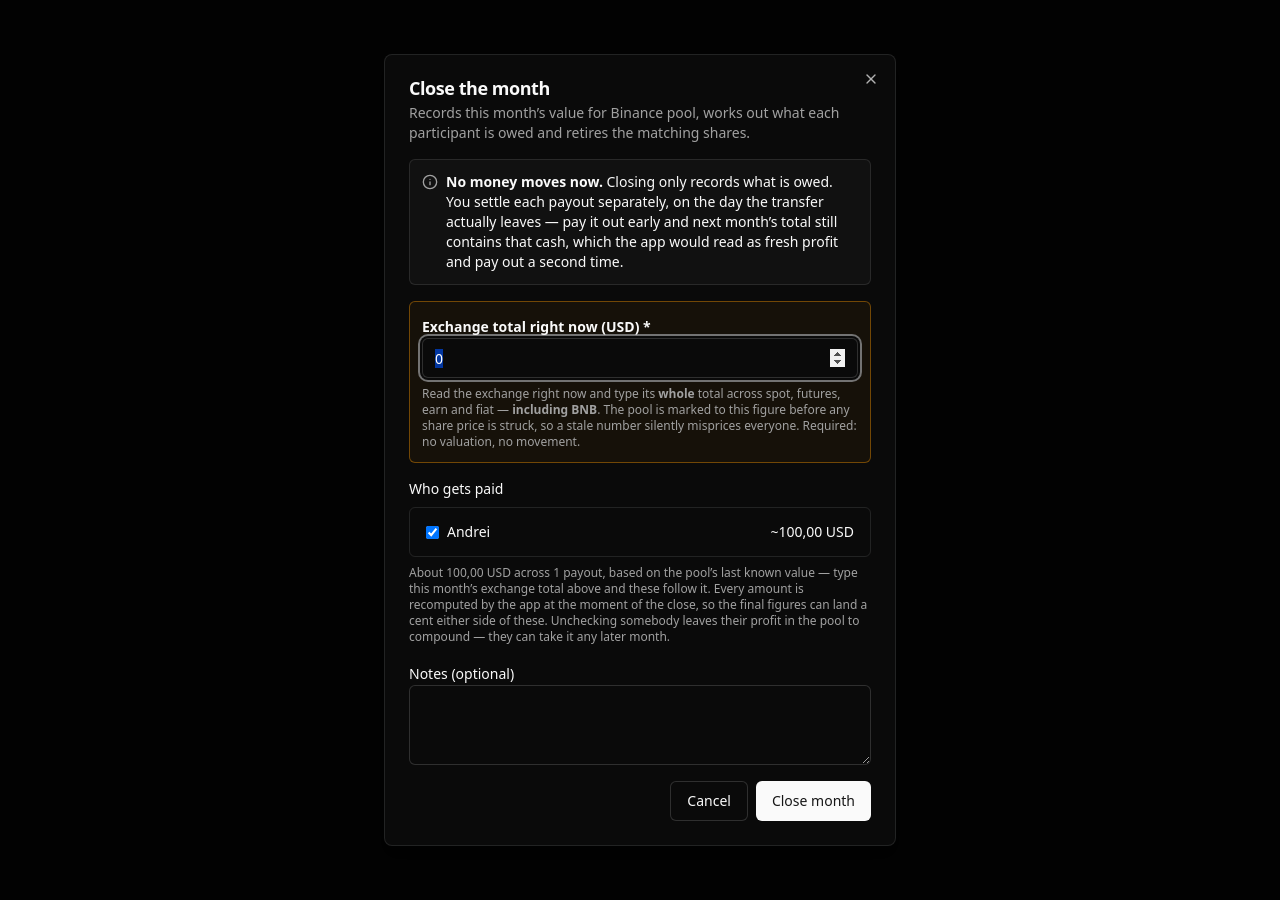
Scenario: a guard rejection lands inline, next to the form › close month
Replace the text in the number field with test id "close-pool-value-input" with "2600": (640, 358) left=422, top=338, right=858, bottom=378
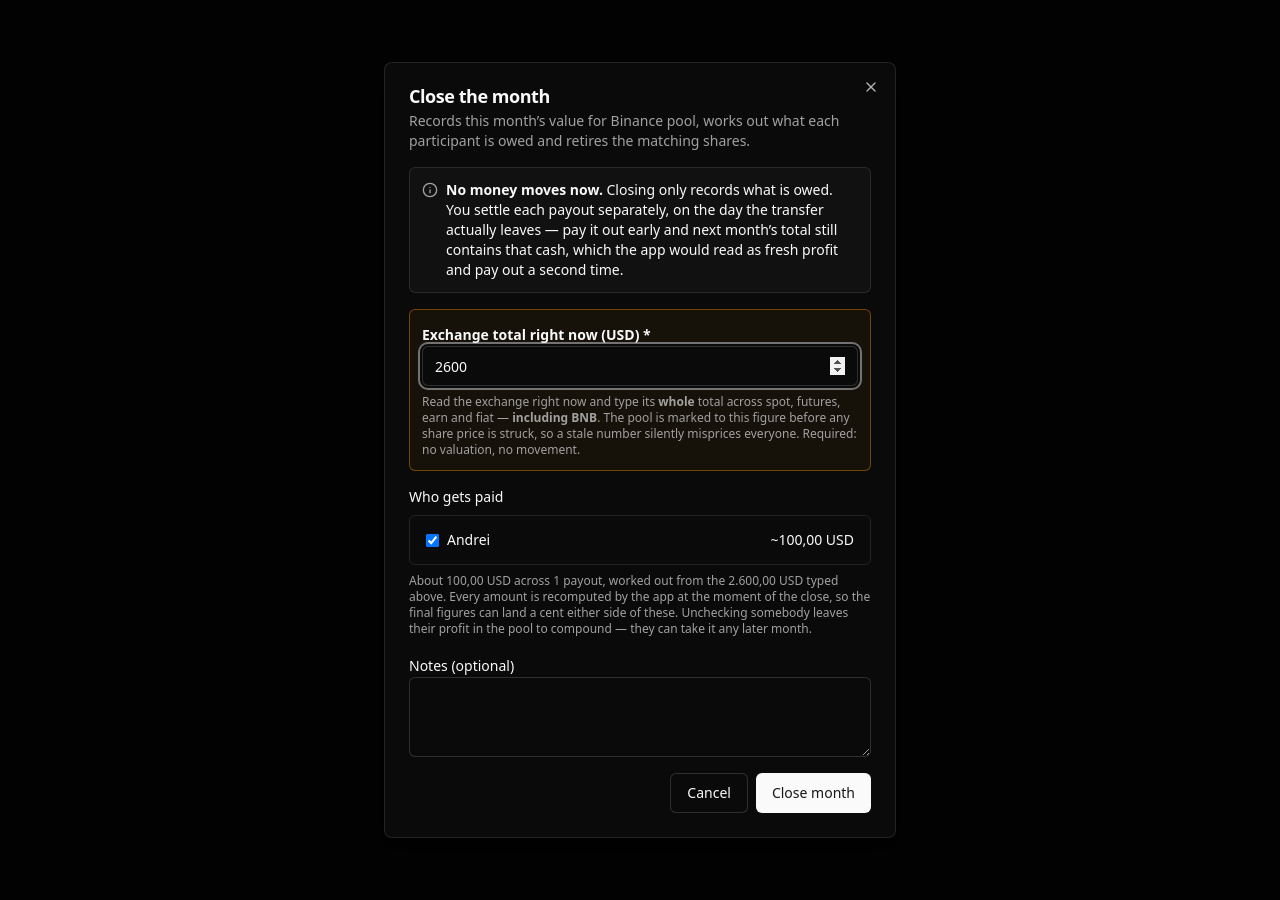
Click the button with test id "close-month-submit-button": (813, 793) left=756, top=773, right=871, bottom=813
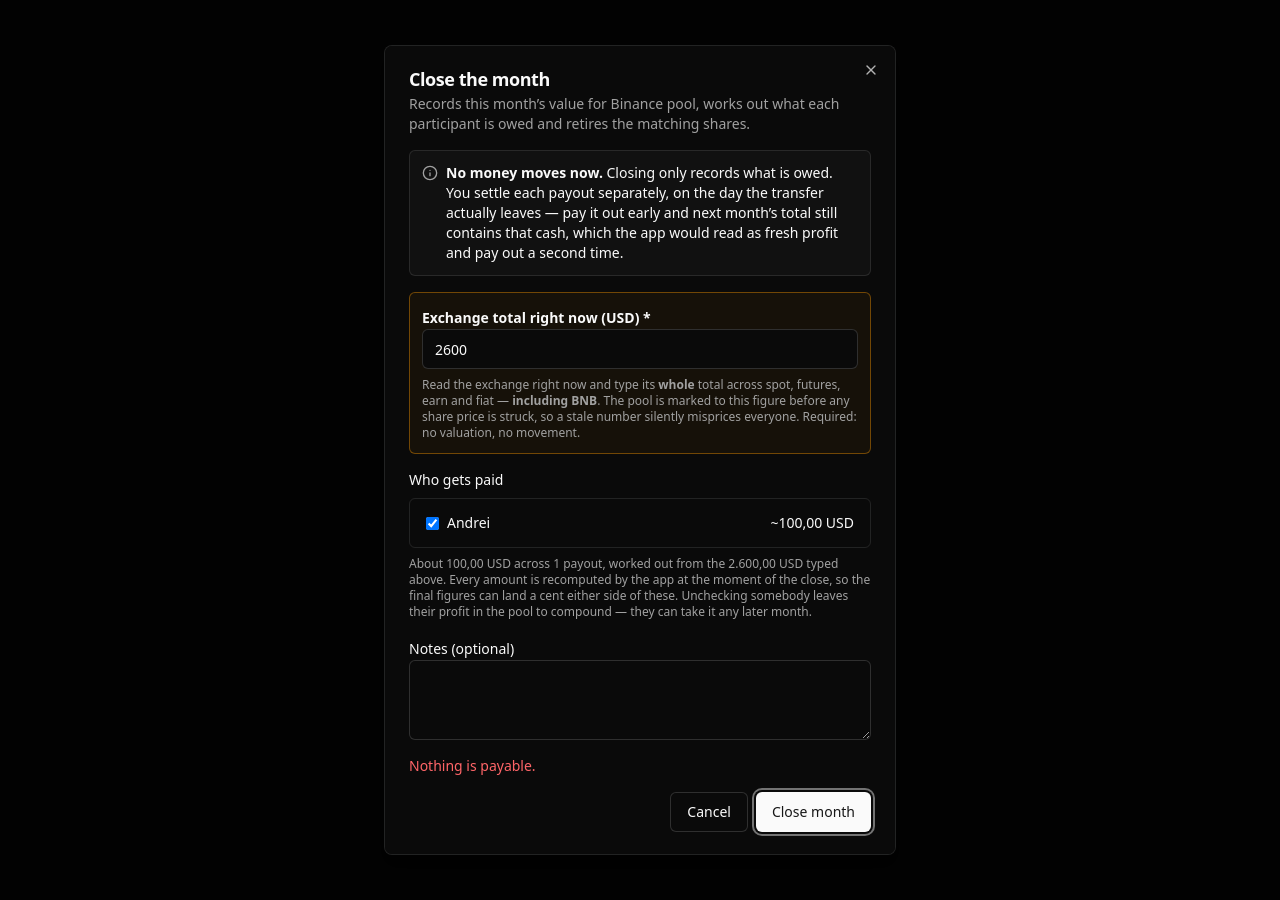
Expected: the message with test id "close-month-error" reads "Nothing is payable.", left=409, top=756, right=536, bottom=775
